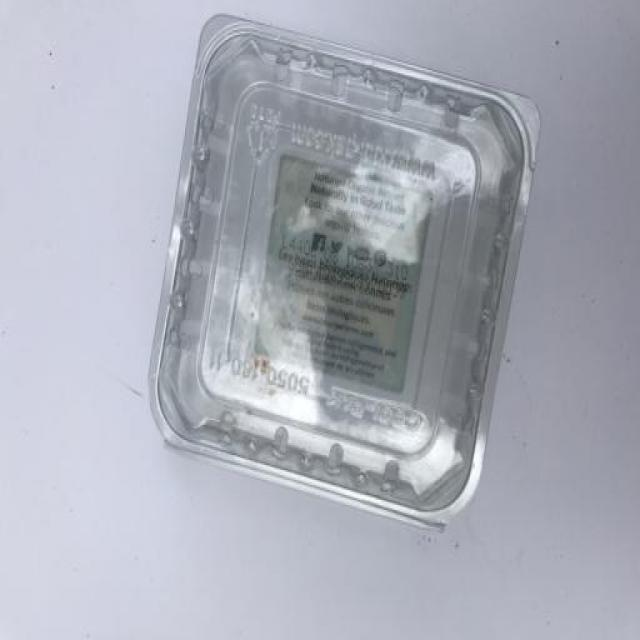plastic: (148, 9, 555, 541)
